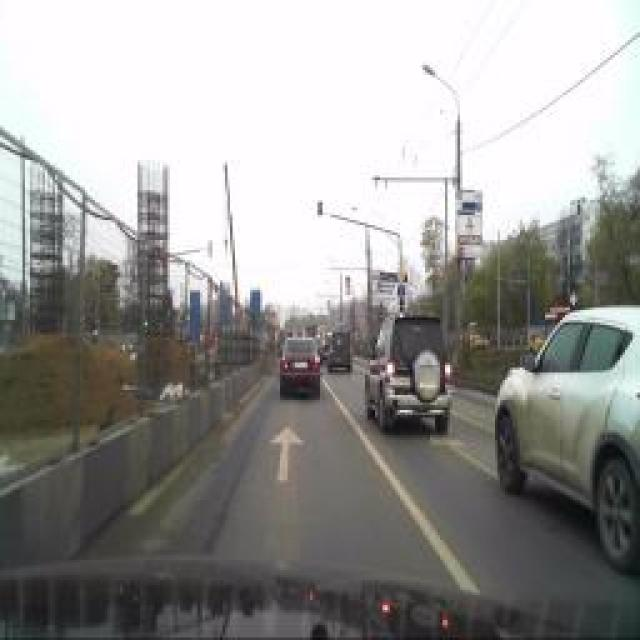sign: (395, 266, 405, 284)
